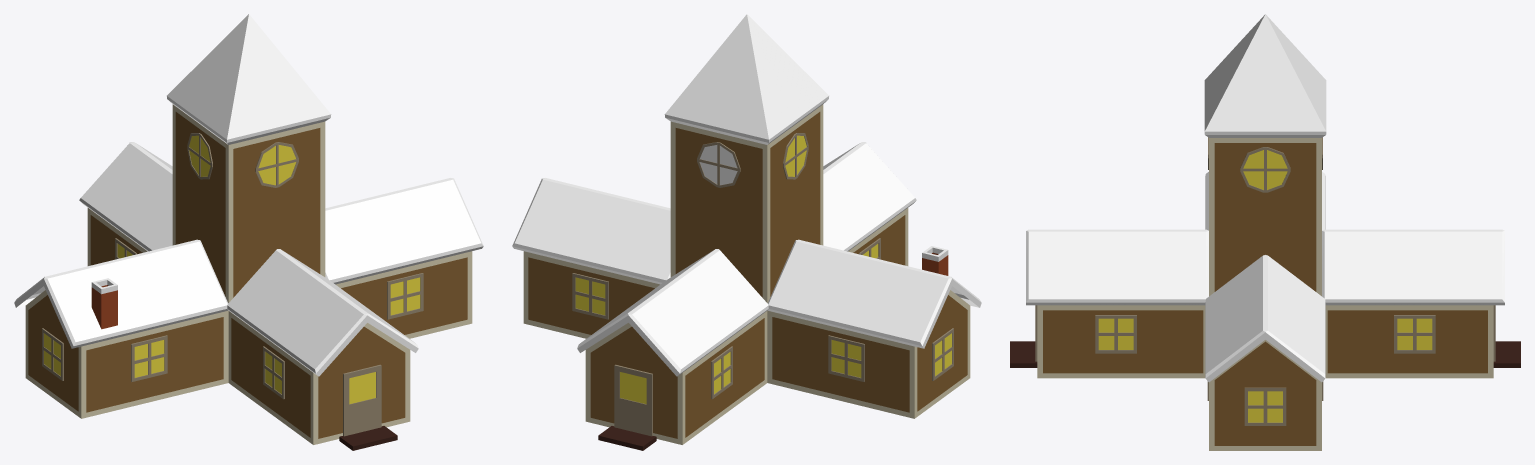
The model's file is Church.fbx.
3 views of the same model, side by side, from view 1: azimuth 30°, elevation 25°; view 2: azimuth 150°, elevation 25°; view 3: azimuth 270°, elevation 25° (orthographic).
Parts seen in each view (by area): view 1: Church_1; view 2: Church_1; view 3: Church_1.
Part boxes in pixels (box(x1,y1,x2,y2)): Church_1: box(14, 14, 483, 450); Church_1: box(512, 14, 981, 450); Church_1: box(1010, 14, 1520, 450).
Size of the model in its own units: 1274 by 1006 by 1360.
